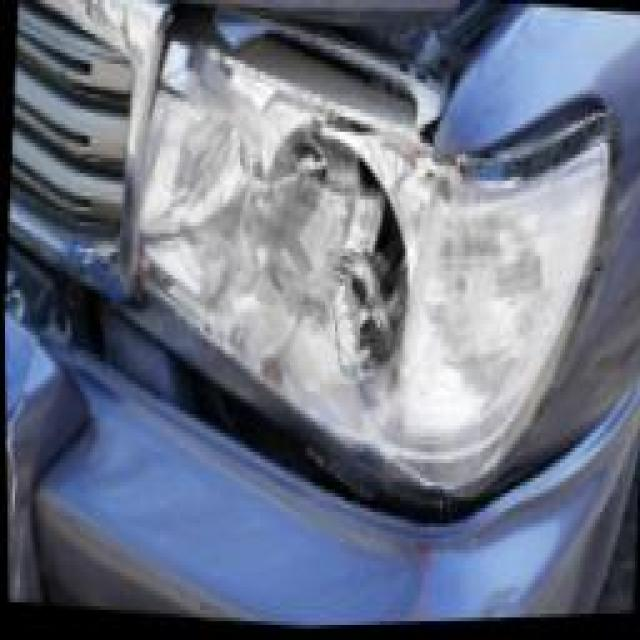Bumper: (2, 294, 639, 640)
Light: (105, 0, 591, 521)
